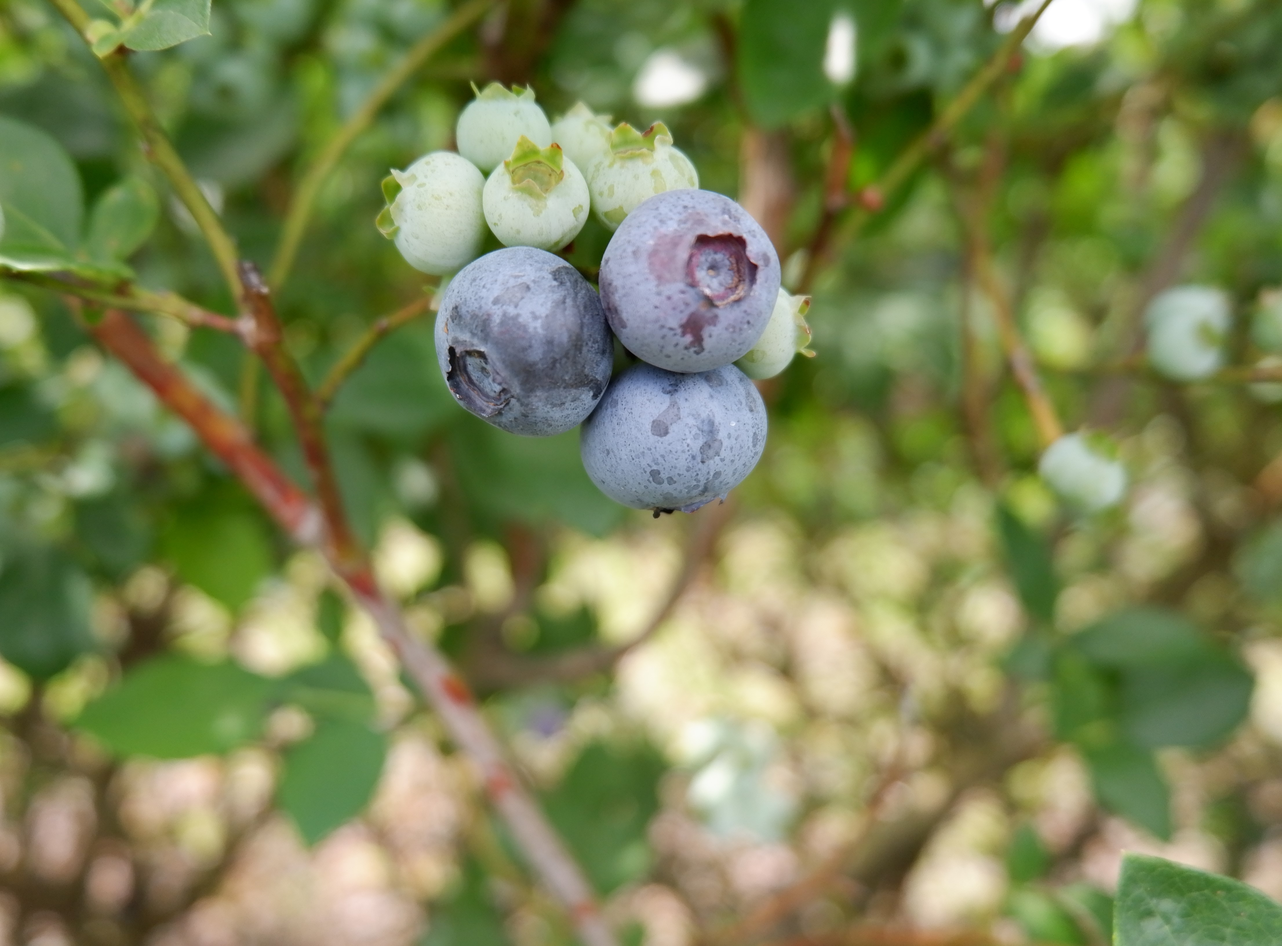Immature: (381, 155, 487, 271), (590, 124, 694, 225), (483, 145, 586, 246), (458, 83, 548, 173), (742, 289, 811, 377), (549, 100, 616, 186), (431, 272, 456, 306)
Mature: (436, 246, 610, 431), (602, 190, 777, 368), (582, 364, 766, 510)
